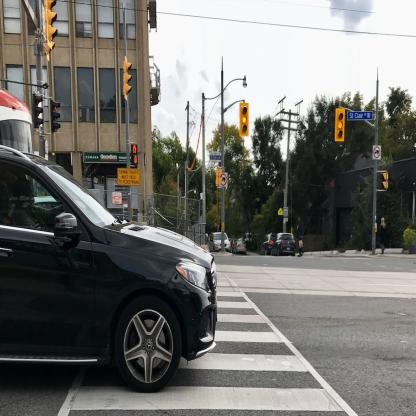Crosswalk: (66, 292, 359, 416)
Don-t Walk: (131, 144, 137, 153)
